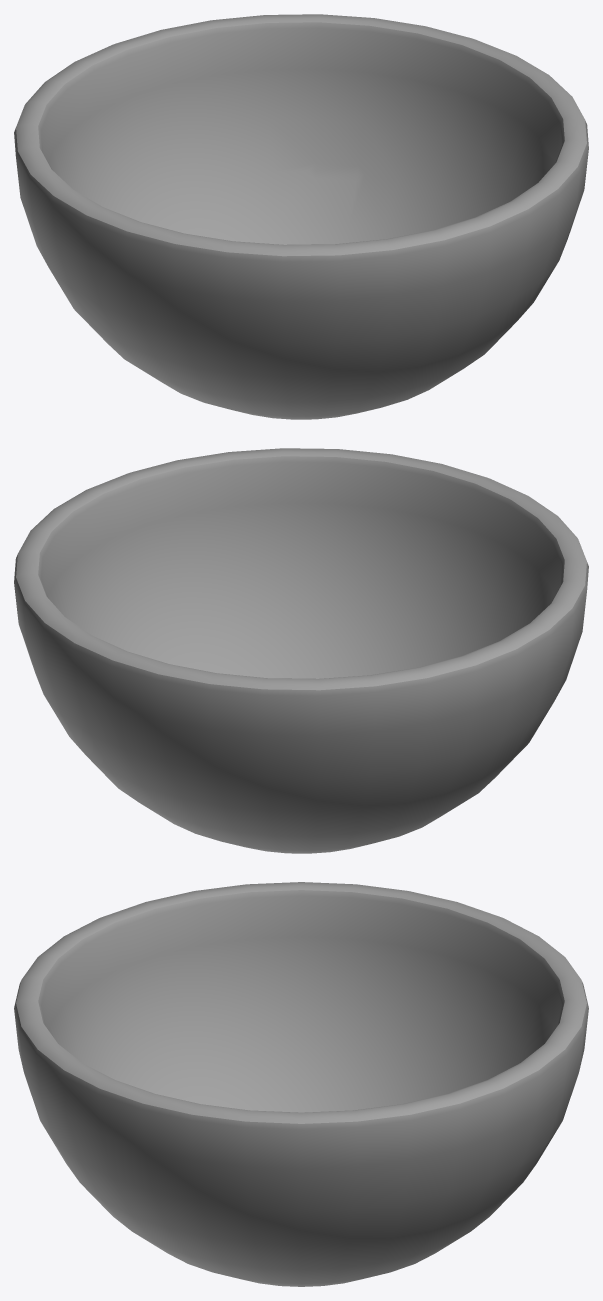
File: Bowl1.fbx
The picture shows the model from 3 angles, top to bottom: view 1: azimuth 30°, elevation 25°; view 2: azimuth 150°, elevation 25°; view 3: azimuth 270°, elevation 25°; orthographic projection.
Parts seen in each view (by area): view 1: Bowl1; view 2: Bowl1; view 3: Bowl1.
Boxes of the visible parts, x1,y1,x2,y2 form: Bowl1: [14, 14, 588, 419]; Bowl1: [14, 448, 588, 853]; Bowl1: [14, 882, 588, 1286].
Bounding box in the file's own units: 16.83 × 8.42 × 16.83.
